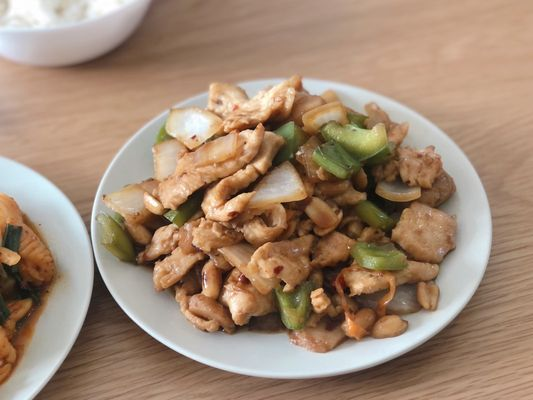sushi: (0, 155, 94, 400), (0, 0, 154, 68)
